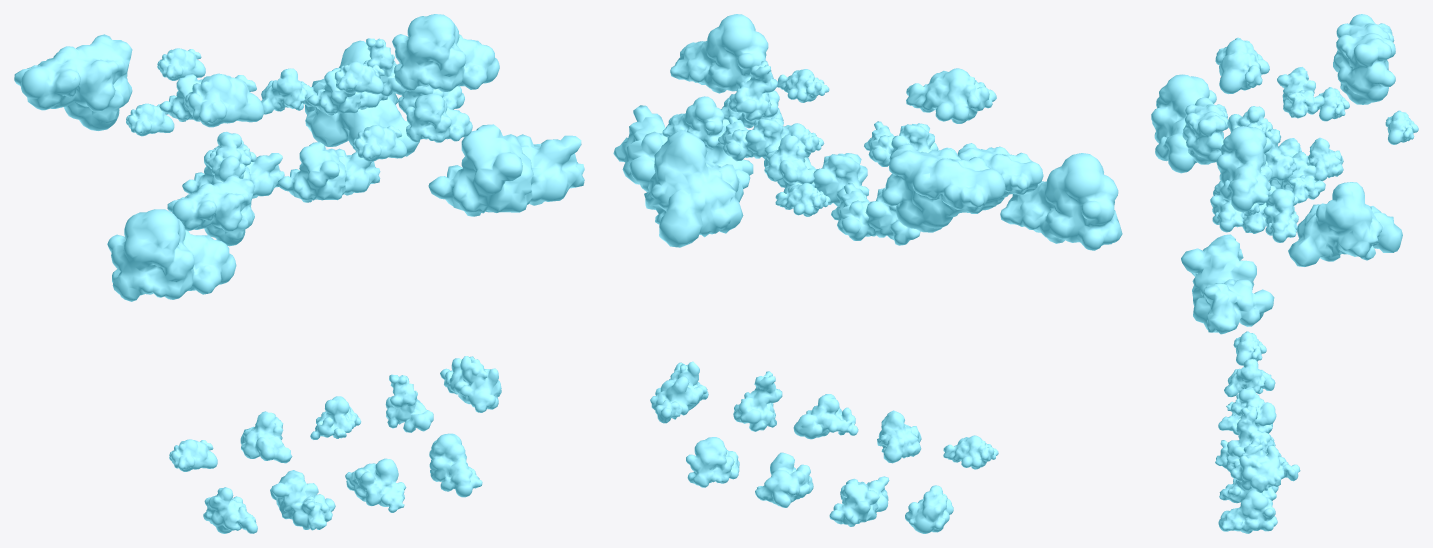
3 renders of one model, left to right at view 1: azimuth 30°, elevation 25°; view 2: azimuth 150°, elevation 25°; view 3: azimuth 270°, elevation 25°, orthographic. The views are drawn at different scales.
Parts seen in each view (by area): view 1: Cloud_028, Cloud_029, Cloud_023, Cloud_026, Cloud_021, Cloud_024, Cloud_025, Cloud_010, Cloud_07, Cloud_018, Cloud_05, Cloud_09 (+17 smaller); view 2: Cloud_025, Cloud_023, Cloud_029, Cloud_026, Cloud_028, Cloud_010, Cloud_022, Cloud_021, Cloud_016, Cloud_024, Cloud_05, Cloud_07 (+15 smaller); view 3: Cloud_025, Cloud_028, Cloud_023, Cloud_026, Cloud_029, Cloud_021, Cloud_05, Cloud_010, Cloud_09, Cloud_012, Cloud_027, Cloud_016 (+15 smaller).
Boxes of the visible parts, box(x1,y1,x2,y2) form: Cloud_028: box(428, 124, 584, 216); Cloud_029: box(107, 209, 236, 301); Cloud_023: box(14, 34, 132, 130); Cloud_026: box(392, 14, 499, 91); Cloud_021: box(167, 174, 254, 246); Cloud_024: box(277, 142, 380, 202); Cloud_025: box(305, 40, 419, 156); Cloud_010: box(184, 73, 264, 127); Cloud_07: box(270, 470, 335, 530); Cloud_018: box(405, 93, 472, 142); Cloud_05: box(440, 356, 501, 412); Cloud_09: box(429, 433, 482, 497); Cloud_025: box(644, 129, 743, 247); Cloud_023: box(881, 143, 1005, 232); Cloud_029: box(1000, 153, 1122, 250); Cloud_026: box(670, 14, 773, 93); Cloud_028: box(613, 105, 753, 192); Cloud_010: box(906, 68, 996, 123); Cloud_022: box(831, 183, 920, 245); Cloud_021: box(957, 143, 1043, 206); Cloud_016: box(718, 115, 788, 161); Cloud_024: box(777, 153, 869, 206); Cloud_05: box(650, 361, 708, 423); Cloud_07: box(829, 476, 889, 526); Cloud_025: box(1288, 182, 1402, 266); Cloud_028: box(1181, 234, 1274, 334); Cloud_023: box(1333, 14, 1395, 104); Cloud_026: box(1216, 126, 1272, 212); Cloud_029: box(1151, 74, 1216, 173); Cloud_021: box(1182, 97, 1228, 164); Cloud_05: box(1230, 437, 1300, 492); Cloud_010: box(1215, 37, 1269, 94); Cloud_09: box(1218, 489, 1277, 533); Cloud_012: box(1277, 67, 1324, 118); Cloud_027: box(1263, 188, 1298, 242); Cloud_016: box(1283, 152, 1325, 203).
Size of the model in its own units: 2.07 by 1.93 by 1.18.
